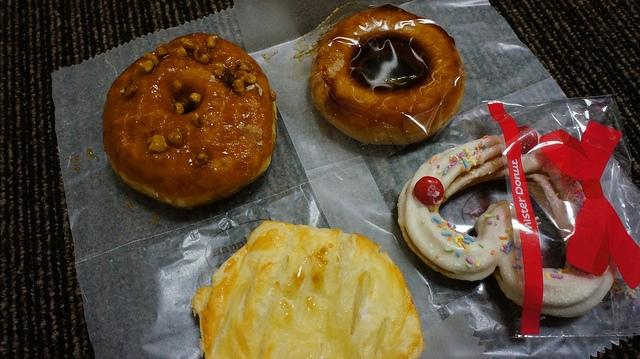cherry: (414, 176, 444, 206), (518, 126, 538, 154)
